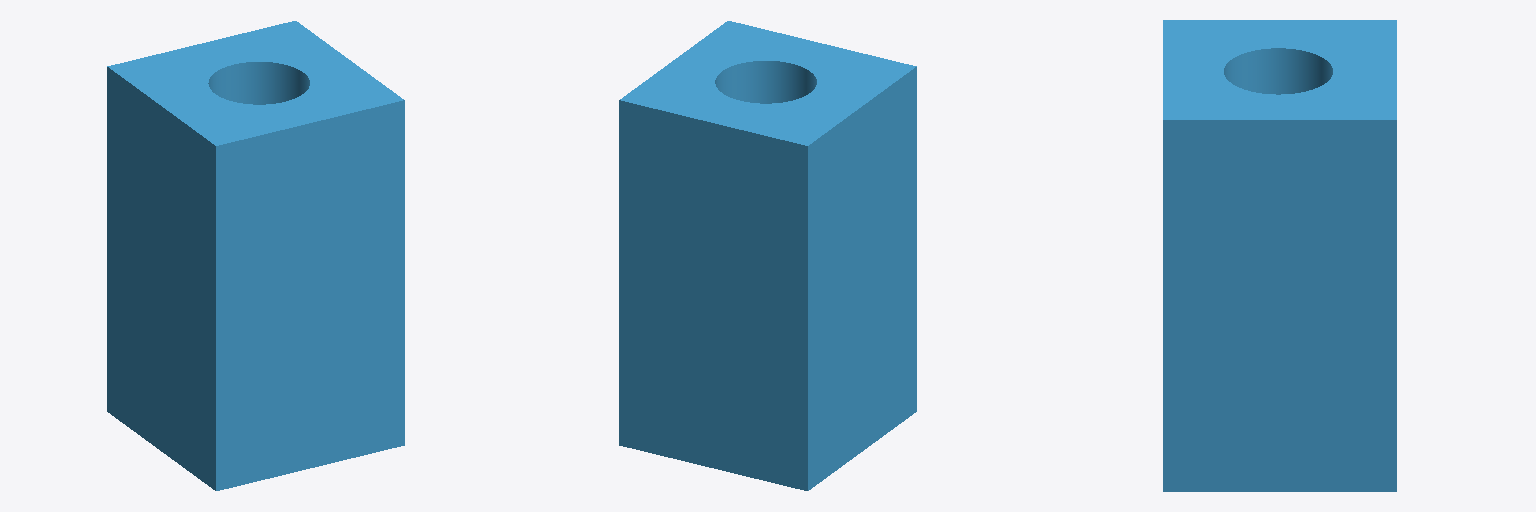
URDF robot description (sphere):
<?xml version="1.0"?>
<robot name="sphere">
  <static>true</static>
  <link name="world"/>

  <joint name="world_fixed" type="fixed">
    <parent link="world"/>
    <child link="link1"/>
  </joint>

  <link name="link1">
    <inertial>
      <origin xyz="0 0 0" rpy="0 0 0"/>
      <mass value="10000.0" />               <!--  半径为r，高度为h，质量为m 的实心圆柱体  1/12m * ( 3r*r + h*h )-->
      <inertia  ixx="0.7275" ixy="0.0"  ixz="0.0"  iyy="0.7275"  iyz="0.0"  izz="0.7275" />
    </inertial>

    <visual>
      <origin xyz="0 0 0" rpy="0 0 0"/>
      <geometry>
        <mesh filename="package://ur_gazebo/meshes/hole_ma.STL" scale="0.004 0.004 0.007"/>
      </geometry>
    </visual>

    <collision>
      <origin xyz="0 0 0" rpy="0 0 0" />
      <geometry>
        <mesh filename="package://ur_gazebo/meshes/hole_ma.STL" scale="0.004 0.004 0.007"/>
        <!-- <box size="0.022 0.00635 0.0375"/> -->
      </geometry>
      <surface>
        <bounce>
          <restitution_coefficient>0</restitution_coefficient>
        </bounce>
        <!-- <friction>
          <ode>
            <mu>0.01</mu>
            <mu2>0.01</mu2>
          </ode>
        </friction> -->
      </surface>
      <selfCollide>0</selfCollide>
    </collision>

    <velocity_decay>
      <linear>0</linear>
      <angular>0</angular>
    </velocity_decay>

  </link>

  <gazebo reference="link1">
    <material>Gazebo/White</material>
    <turnGravityOff>true</turnGravityOff>
    <!-- <selfCollide>true</selfCollide> -->
  </gazebo>

</robot>

--- Facts derived from the render (not from the file) ---
Views: 3 orthographic renders of the robot side by side, from view 1: azimuth 30°, elevation 25°; view 2: azimuth 150°, elevation 25°; view 3: azimuth 270°, elevation 25°.
Robot: sphere — 2 links, 1 joints (1 fixed); root link world; default pose: all joints at 0.
Visible links, largest first — view 1: link1; view 2: link1; view 3: link1.
Boxes of the visible links, box(x1,y1,x2,y2) form: link1: box(107, 21, 404, 490); link1: box(619, 21, 916, 490); link1: box(1163, 20, 1396, 491).
Bounding box of the posed robot: 0.12 × 0.12 × 0.21 m (x, y, z).
Meshes: 1 distinct files referenced, 1 mesh visuals loaded (1 binary STL).
